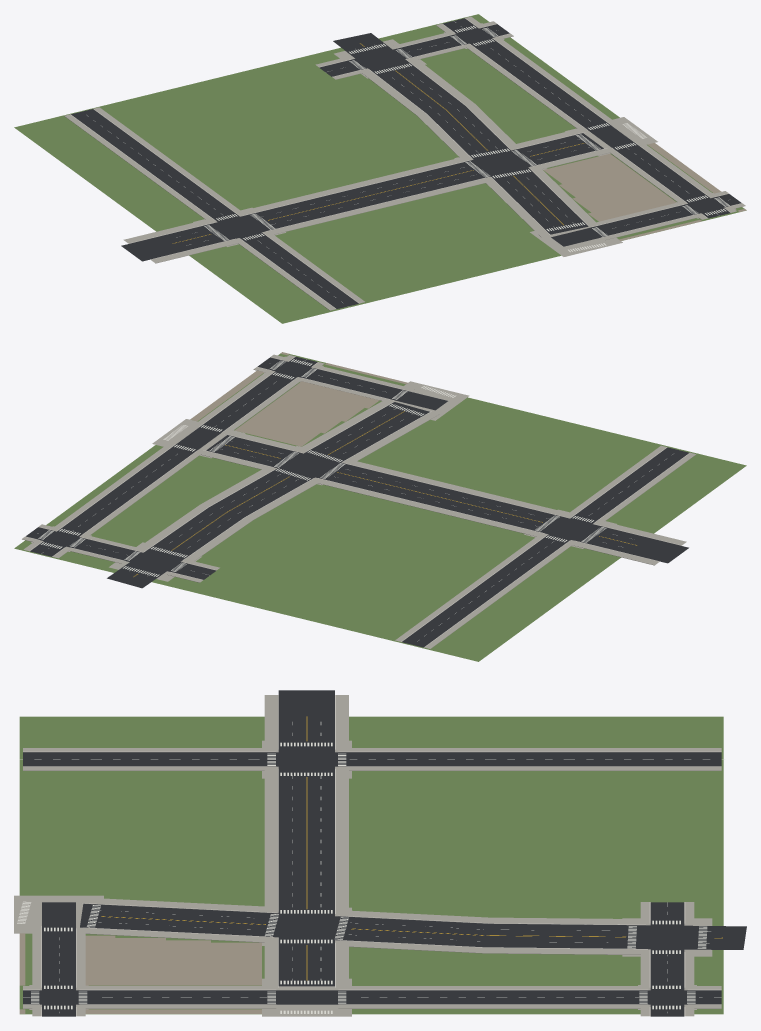
Rendered from Ground_2_5.fbx.
3 views of the same model, one above another, from view 1: azimuth 30°, elevation 25°; view 2: azimuth 150°, elevation 25°; view 3: azimuth 270°, elevation 25° (orthographic). The views are drawn at different scales.
Visible parts, largest first — view 1: Ground_2_5; view 2: Ground_2_5; view 3: Ground_2_5.
Part boxes in pixels (x1,y1,x2,y2): Ground_2_5: (14, 14, 746, 323); Ground_2_5: (14, 352, 746, 661); Ground_2_5: (14, 690, 746, 1016).
Bounding box in the file's own units: 274 × 0.14 × 260.
